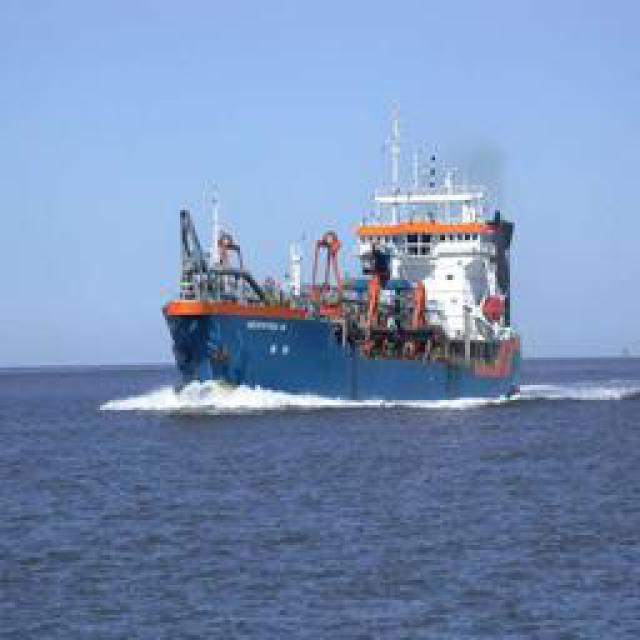Ship: (157, 108, 527, 416)
